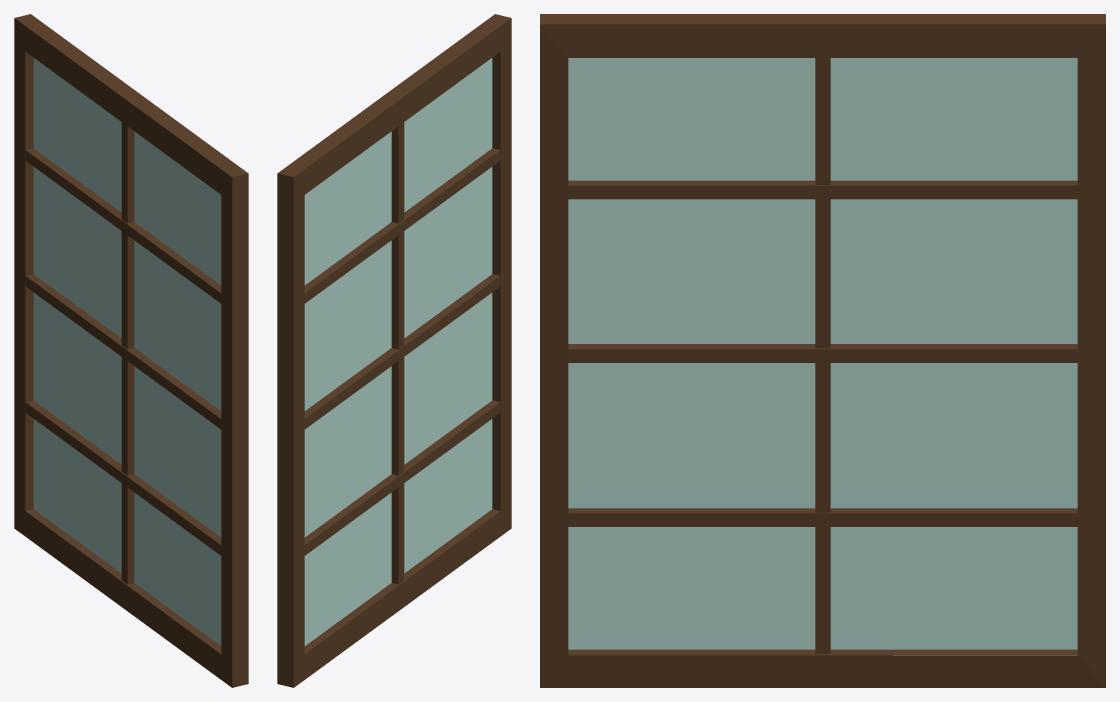
The model's file is glasswindow_1.fbx.
The picture shows the model from 3 angles, left to right: view 1: azimuth 30°, elevation 25°; view 2: azimuth 150°, elevation 25°; view 3: azimuth 270°, elevation 25°; orthographic projection. The views are drawn at different scales.
Parts seen in each view (by area): view 1: Plane, Cube, Cube.004, Cube.001, Cube.003, Cube.002; view 2: Plane, Cube, Cube.004, Cube.001, Cube.003, Cube.002; view 3: Plane, Cube, Cube.002, Cube.001, Cube.003, Cube.004.
Part boxes in pixels (x1,y1,x2,y2): Plane: [33, 58, 221, 645]; Cube: [14, 14, 248, 687]; Cube.004: [121, 122, 134, 584]; Cube.001: [25, 274, 221, 429]; Cube.003: [25, 400, 221, 555]; Cube.002: [25, 148, 221, 303]; Plane: [304, 58, 492, 645]; Cube: [277, 14, 511, 687]; Cube.004: [391, 122, 404, 584]; Cube.001: [304, 274, 500, 429]; Cube.003: [304, 400, 500, 555]; Cube.002: [304, 148, 500, 303]; Plane: [568, 58, 1077, 655]; Cube: [540, 14, 1105, 687]; Cube.002: [568, 180, 1077, 199]; Cube.001: [568, 344, 1077, 362]; Cube.003: [568, 508, 1077, 526]; Cube.004: [815, 58, 830, 653].
Bounding box in the file's own units: 55.79 × 1536 × 1187.
